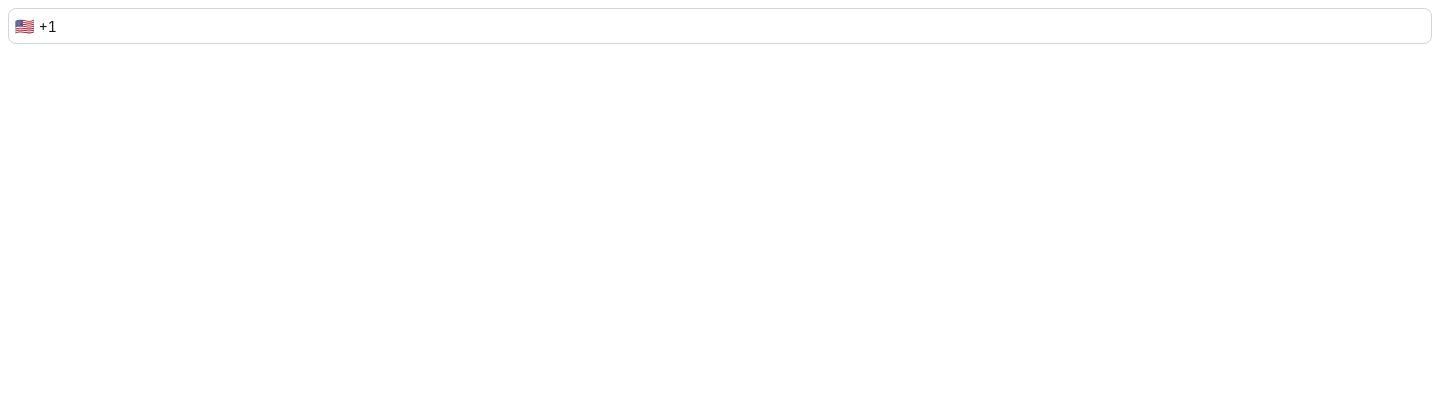
Scenario: PhoneInput › finds a country by its dialling code
Click the button named "Country:": point(45, 26) [9,12,81,40]
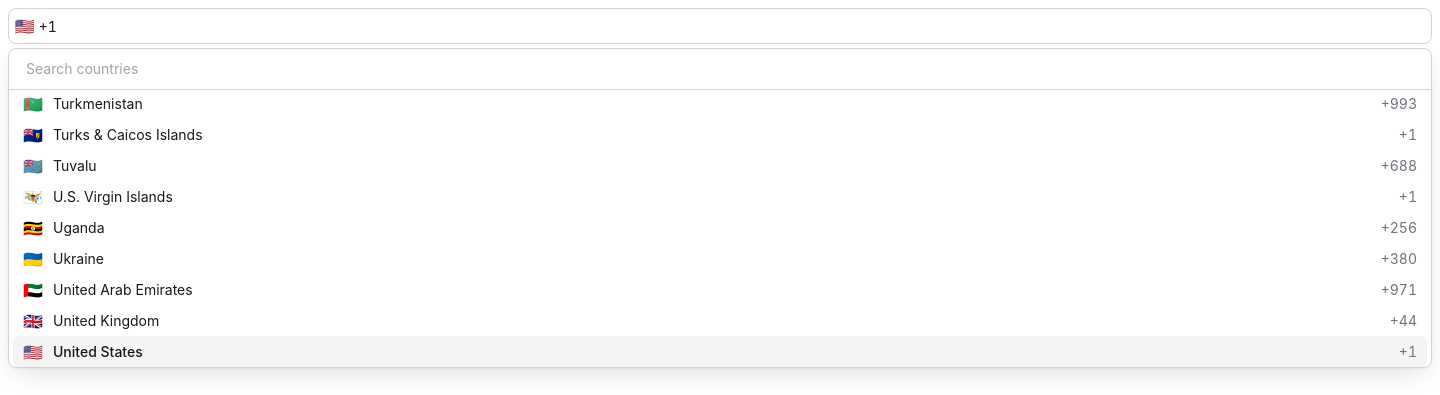
In the dropdown labelled "Search countries": point(720, 69) [13,53,1427,85], type "+234"
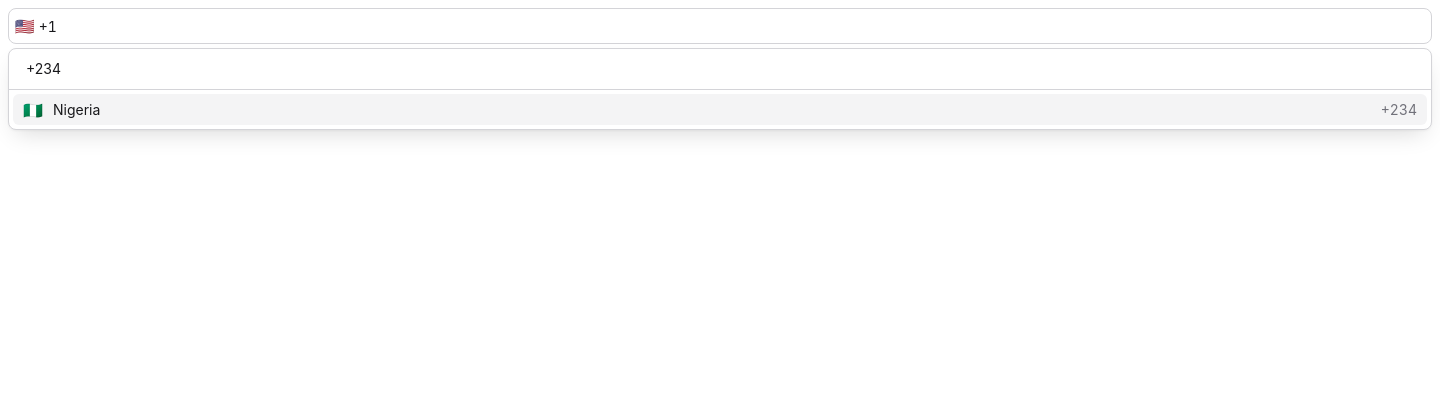
Expected: the option "🇳🇬 Nigeria +234" is shown, [13,94,1427,125]
